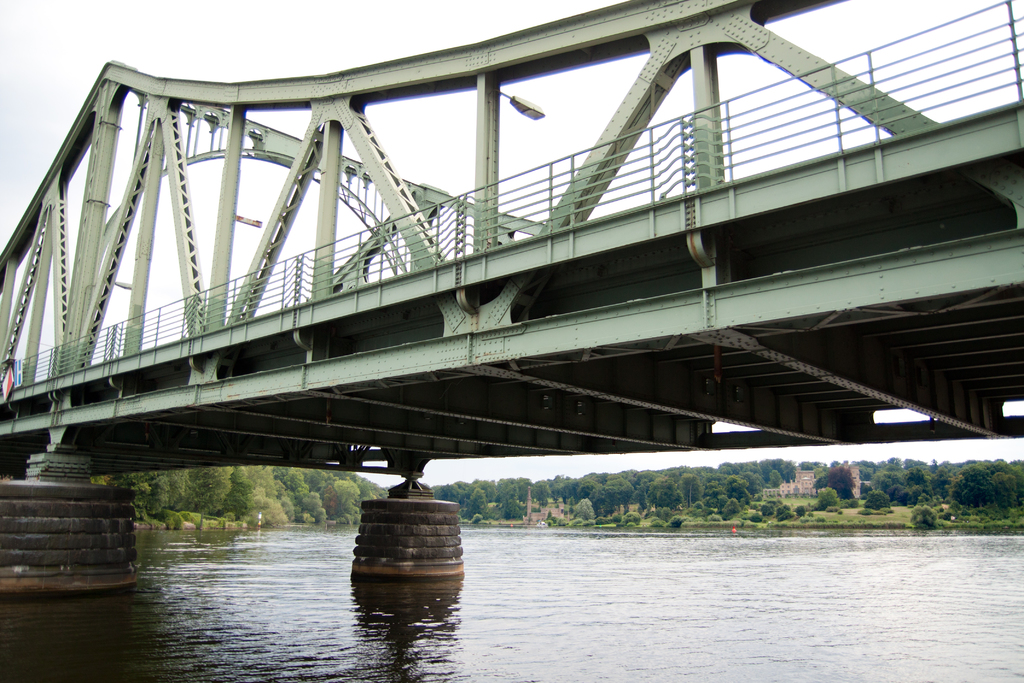Tree: (90, 455, 1023, 530)
